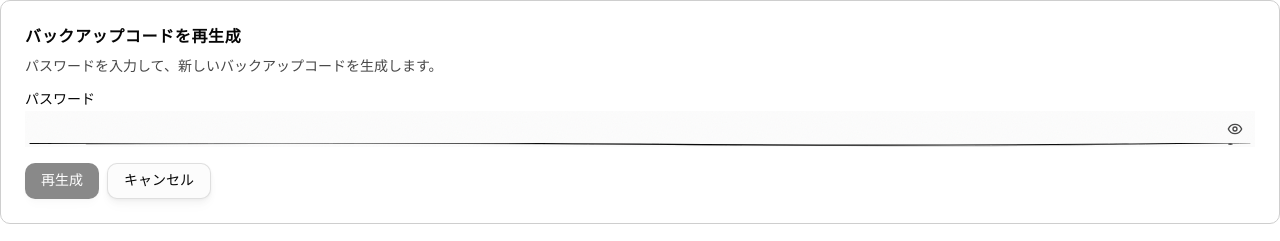
Test case: RegenerateBackupCodes › バリデーション › パスワードを入力すると再生成ボタンが有効になる
The image size is (1280, 241).
Type "password123" into the password field labelled "パスワード".
click(640, 129); type("password123")  # box [25,111,1255,147]
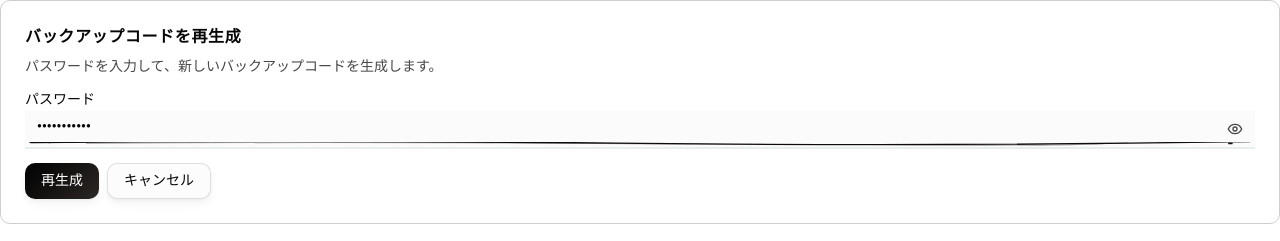
Check: the button "再生成" is enabled, box [25,163,99,199]
